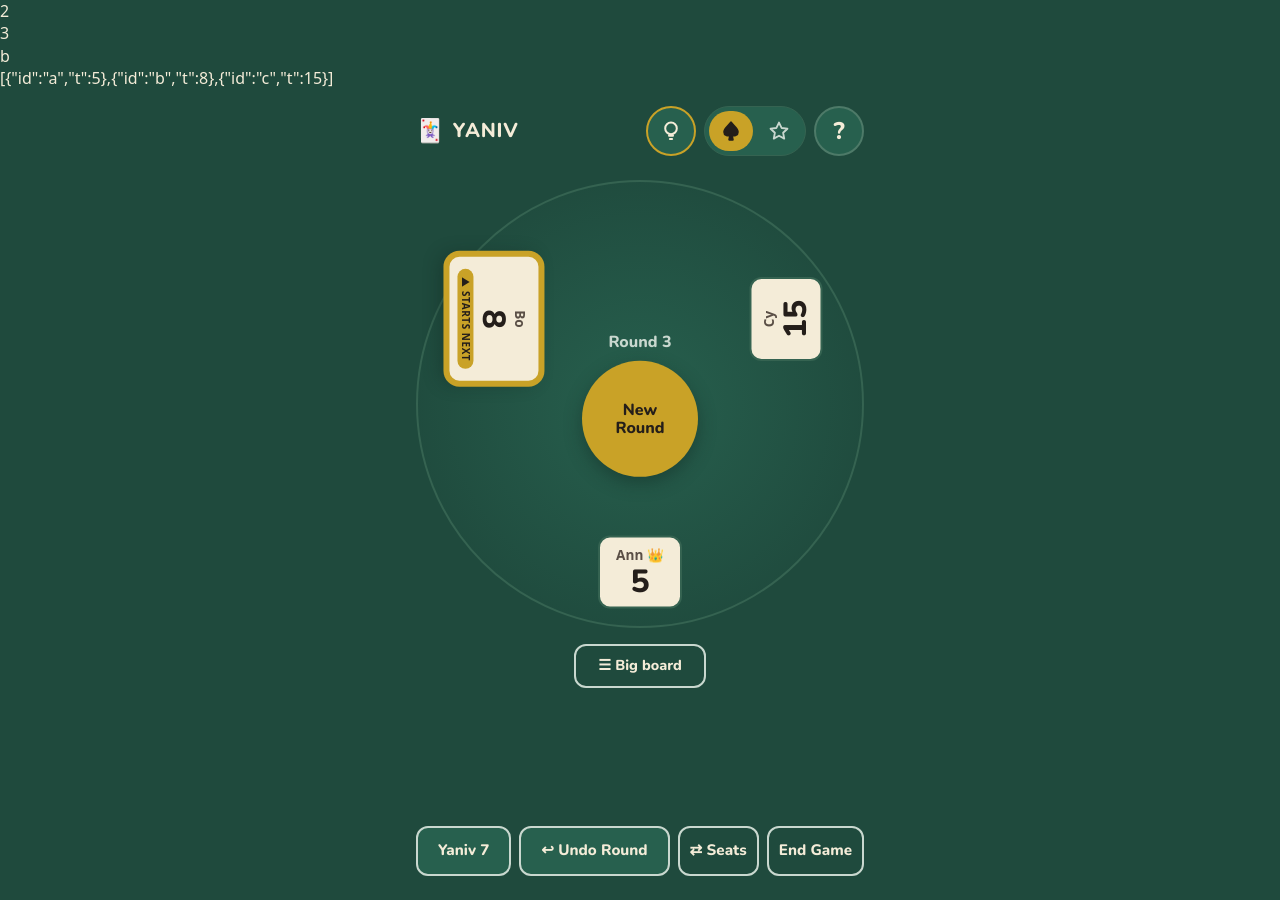
Test case: PlayScreen — undo updates derived who-starts-next and standings › reverts standings and the starter after undo
Expected: the text with test id "starts-next" reads "b", [0,45,10,67]
# Undo the last round.
What coordinates should you click on to do the following:
click the button "↩ Undo Round"
I would click on:
 (594, 851)
Its box is [519,826,670,876].
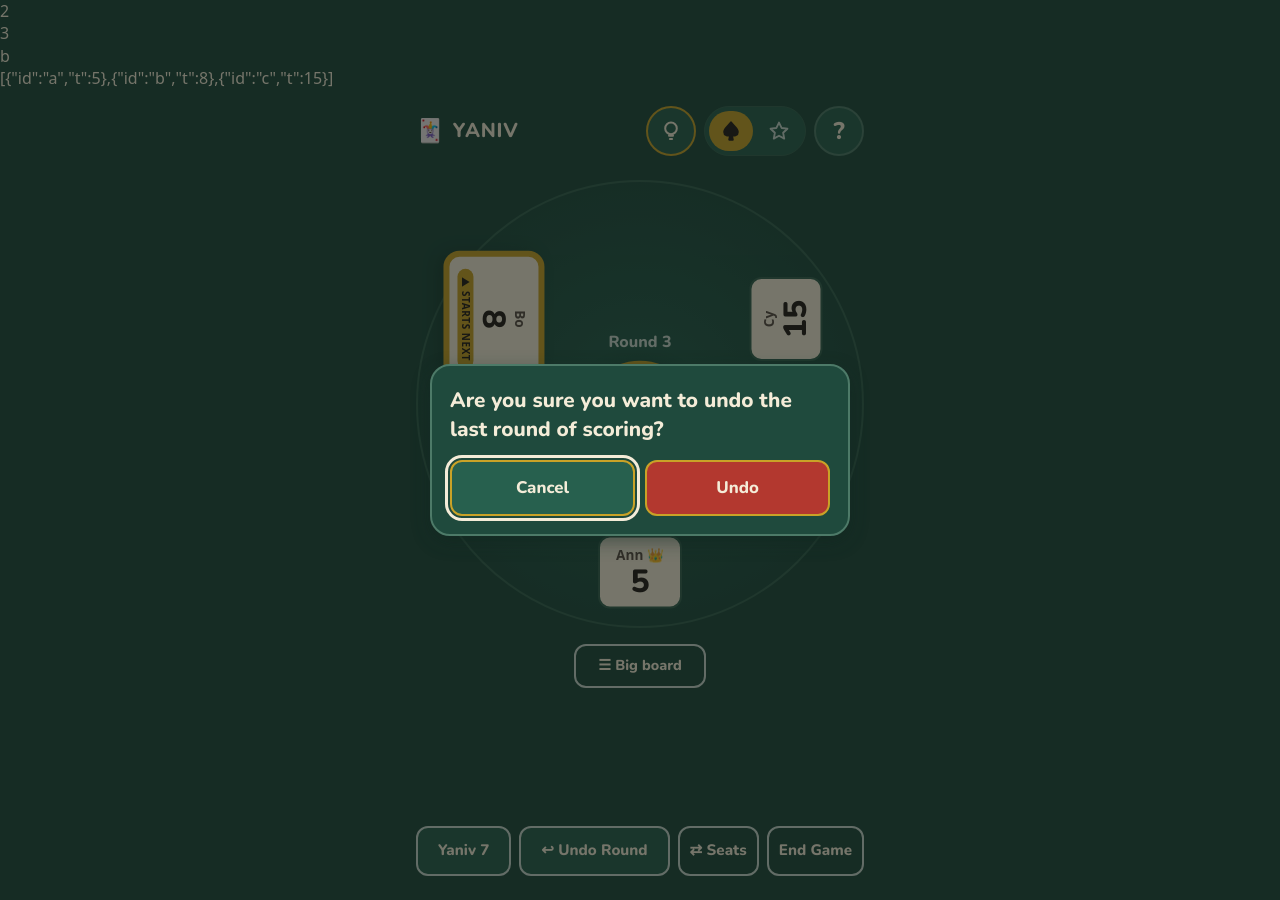
What coordinates should you click on to do the following:
click the button with test id "confirm-undo-round-confirm"
I would click on:
 (738, 488)
Its box is [645,460,830,516].
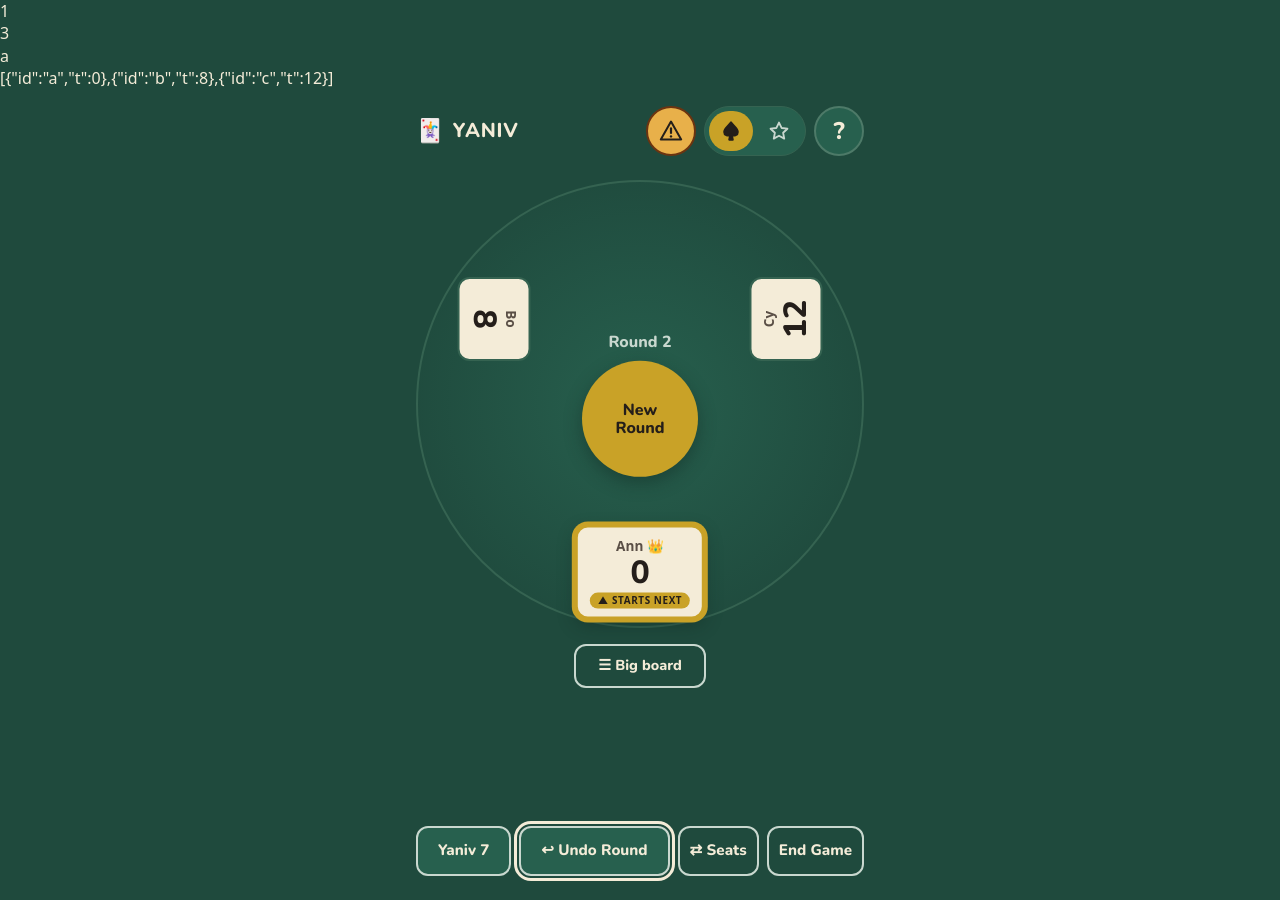
Expected: the text with test id "history-len" reads "1", [0,0,9,22]
Expected: the text with test id "starts-next" reads "a", [0,45,9,67]
